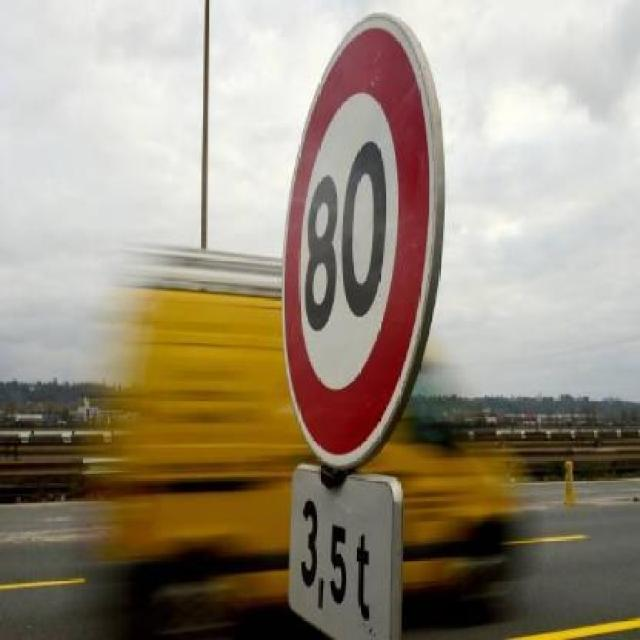forb_speed_over_80: (283, 22, 423, 460)
